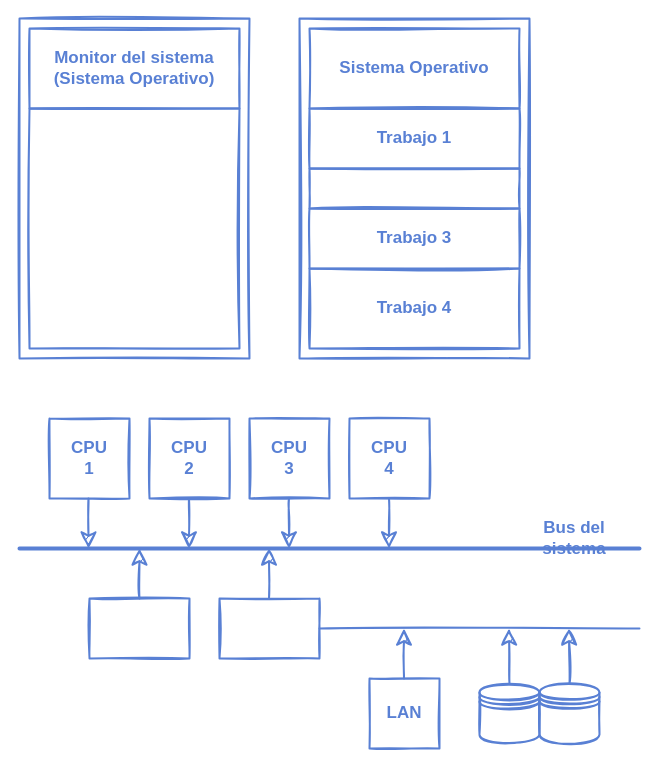
This 659x766 diagram has some shape labels left out. Each missing label, with the box of its shape:
E/S: (218, 597, 320, 659)
Memoria: (88, 597, 190, 659)
Trabajo 2: (308, 167, 520, 209)
Área de los programas de usuario: (28, 107, 240, 349)
